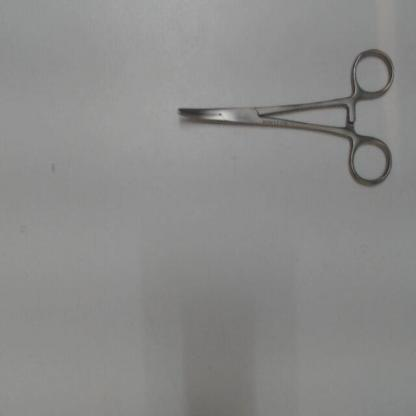Crile Artery Forceps: (167, 45, 405, 196)
